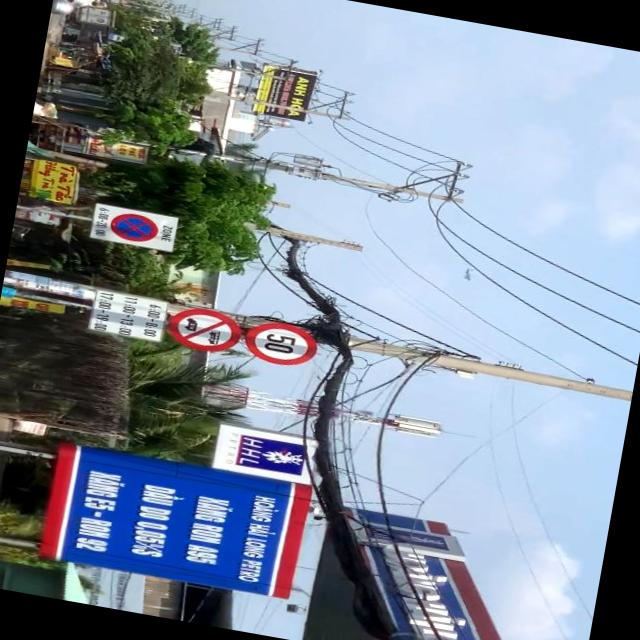P-127: (241, 318, 322, 370)
P-130: (106, 210, 158, 246)
